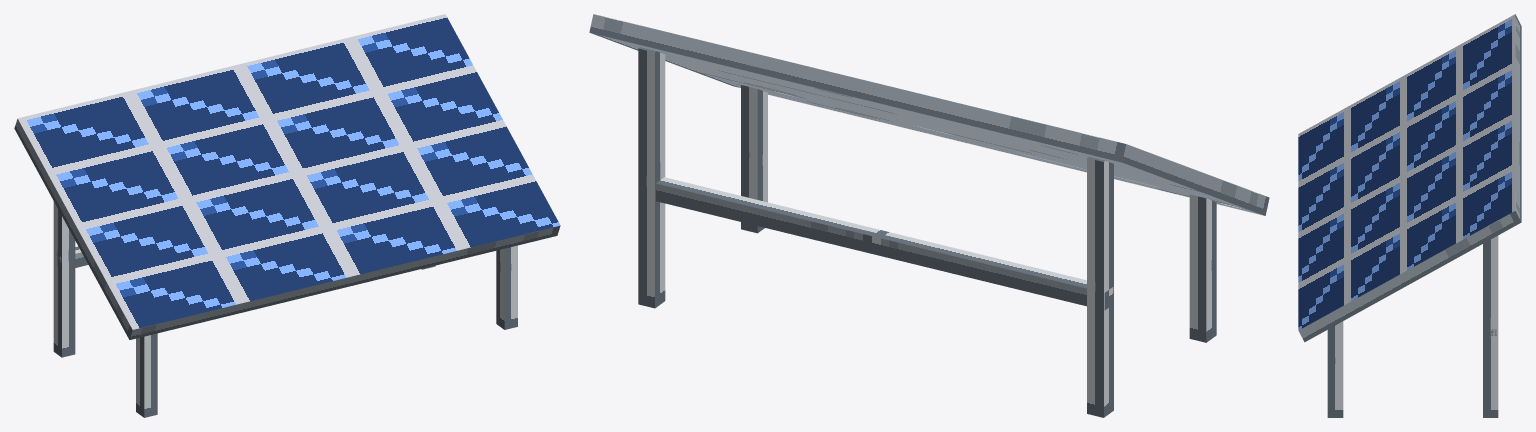
Rendered from solar_panel.glb.
The picture shows the model from 3 angles, left to right: view 1: azimuth 30°, elevation 25°; view 2: azimuth 150°, elevation 25°; view 3: azimuth 270°, elevation 25°; orthographic projection. The views are drawn at different scales.
Visible parts, largest first — view 1: solar_panel; view 2: solar_panel; view 3: solar_panel.
Boxes of the visible parts, x1,y1,x2,y2 form: solar_panel: (14,14,560,417); solar_panel: (589,14,1269,417); solar_panel: (1298,14,1521,417).
Bounding box in the file's own units: 1.92 × 1 × 0.92.
2 materials, 2 textured.
